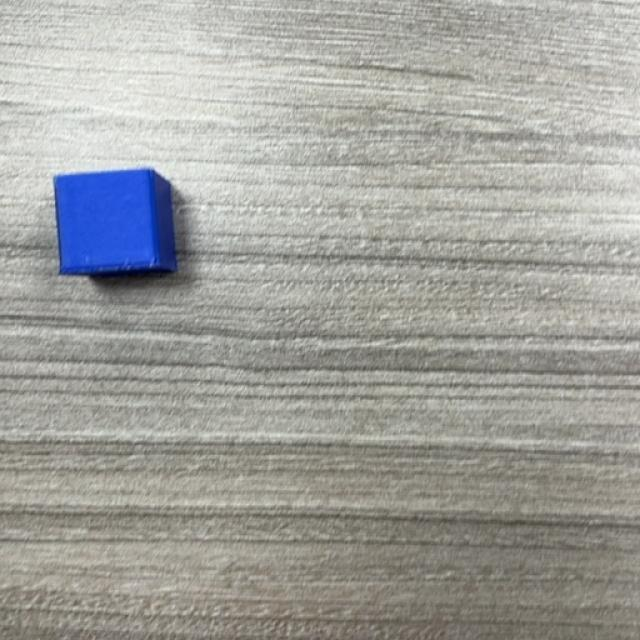Azul: (52, 169, 180, 278)
